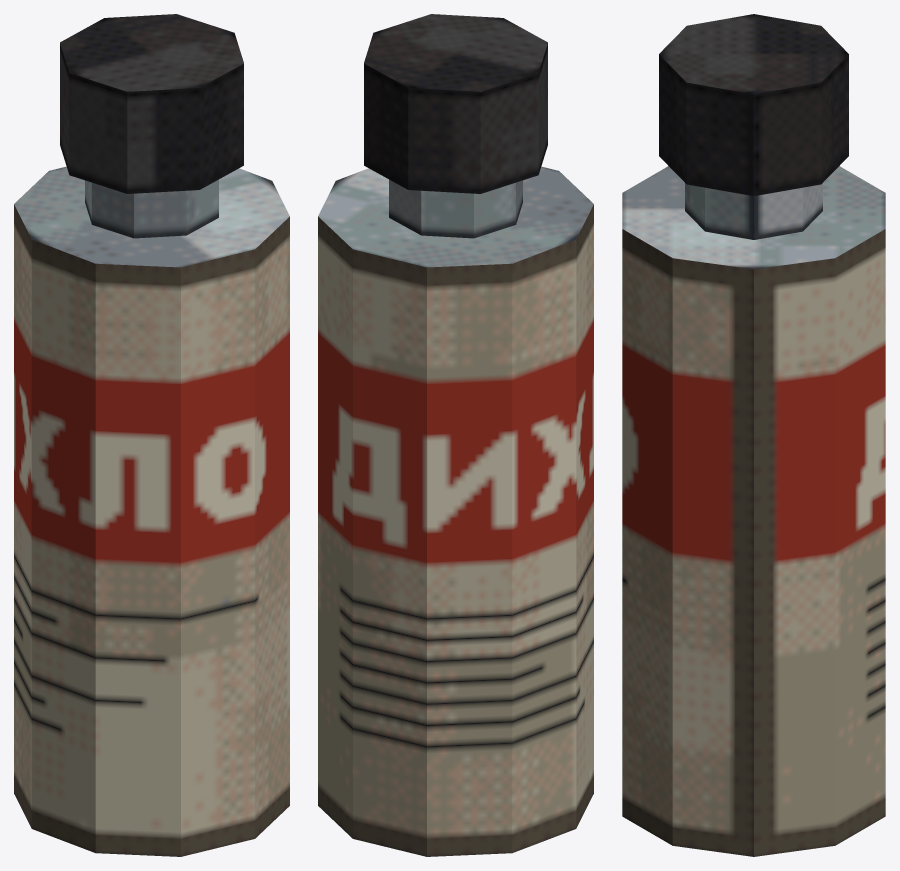
File: SM_BugSpray_01.fbx
3 renders of one model, left to right at view 1: azimuth 30°, elevation 25°; view 2: azimuth 150°, elevation 25°; view 3: azimuth 270°, elevation 25°, orthographic.
Parts seen in each view (by area): view 1: SM_BugSpray_01; view 2: SM_BugSpray_01; view 3: SM_BugSpray_01.
Boxes of the visible parts, x1,y1,x2,y2 form: SM_BugSpray_01: [14, 14, 289, 856]; SM_BugSpray_01: [318, 14, 593, 856]; SM_BugSpray_01: [622, 14, 885, 856].
Bounding box in the file's own units: 0.064 × 0.19 × 0.0609.
1 material, 1 textured.
